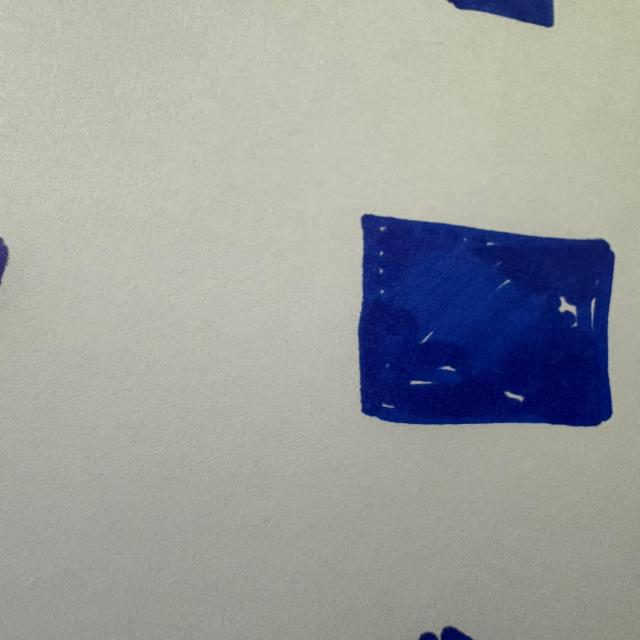Square: (358, 214, 614, 426)
